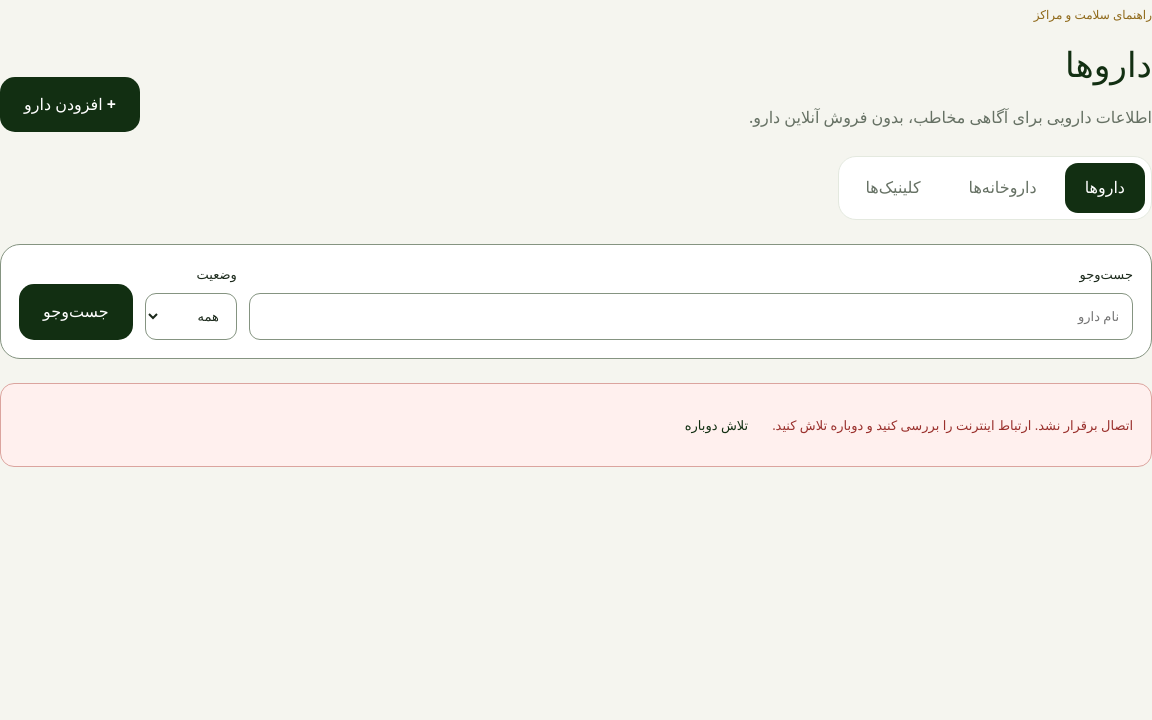
Test case: retries failed care reads and announces editor errors only once
Expected: the message "اتصال برقرار نشد. ارتباط اینترنت را بررسی کنید و دوباره تلاش کنید. تلاش دوباره" is shown, [0,383,1151,467]
Click the button "تلاش دوباره": (716, 425) [661,399,772,451]
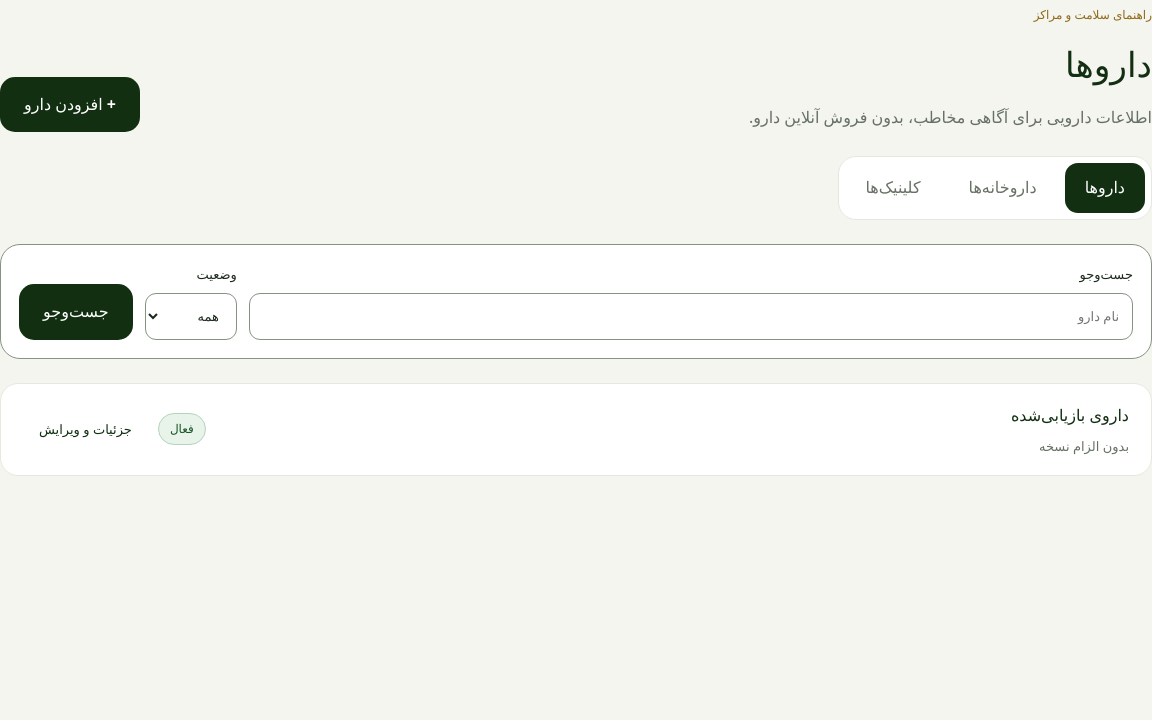
Now the text "داروی بازیابی‌شده" is shown, box [1011,402,1129,429]
Now the message "اتصال برقرار نشد. ارتباط اینترنت را بررسی کنید و دوباره تلاش کنید. تلاش دوباره" is gone
Click the button "+ افزودن دارو": (70, 105) [0,77,140,132]
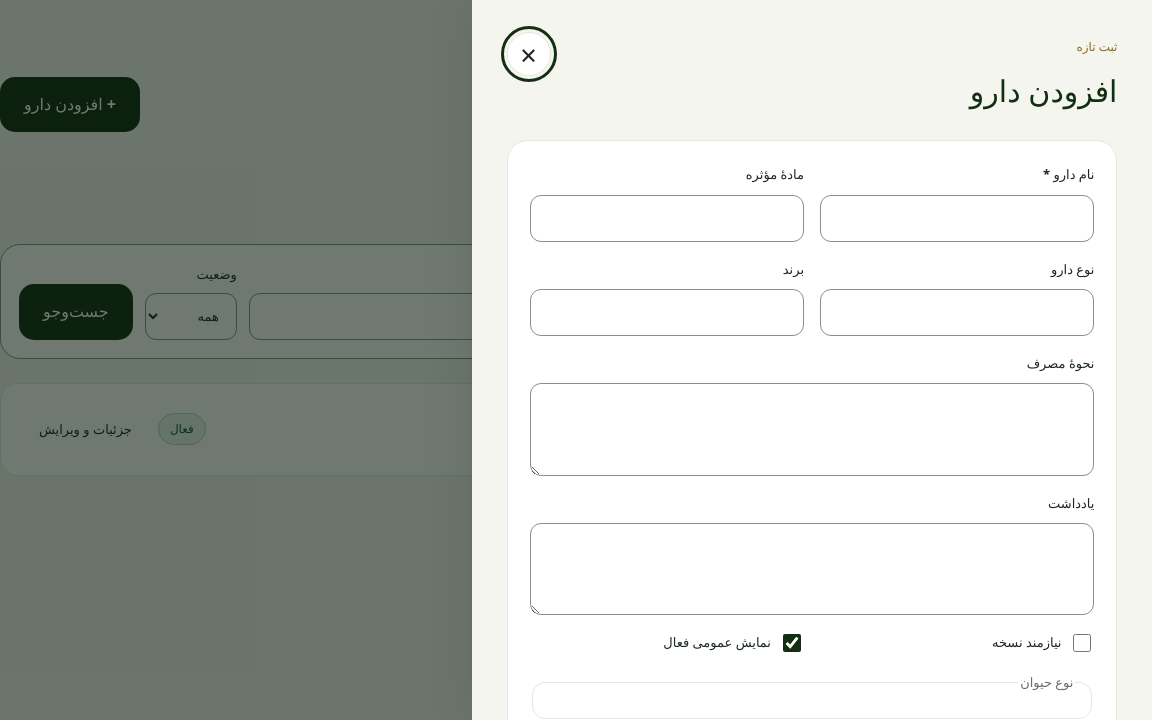
In the field labelled "نام دارو *": (957, 218) [820,195,1094,242], type "داروی جدید"
(page scrolled)
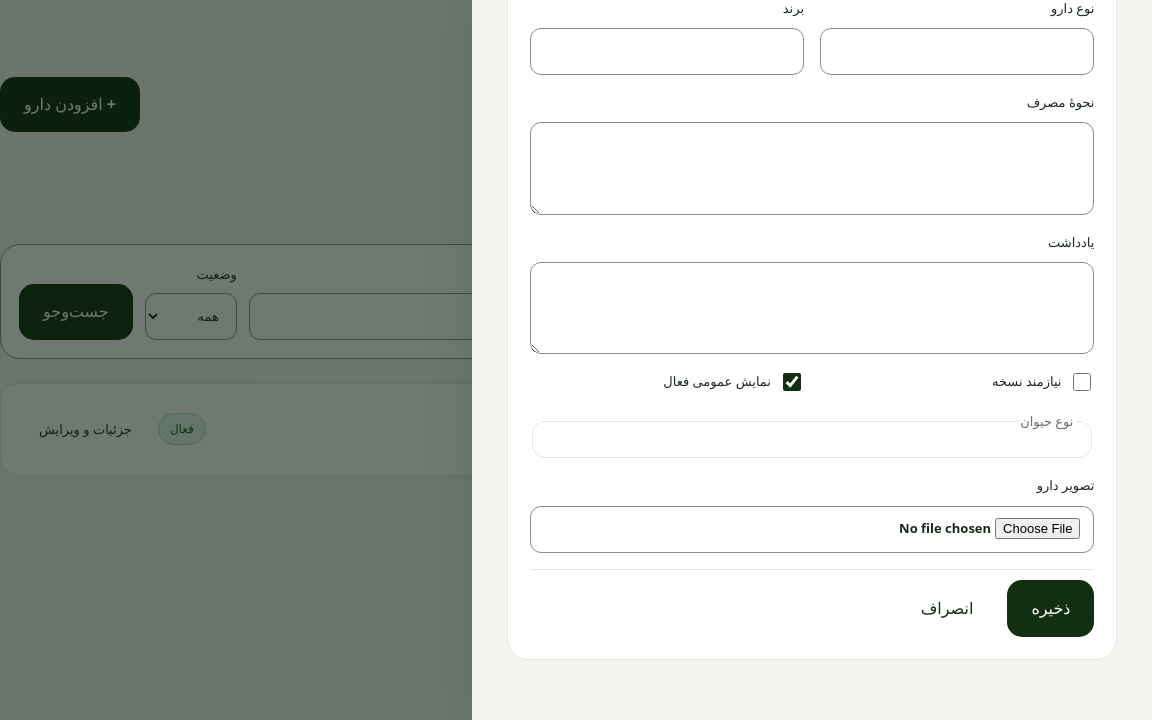
Click the button "ذخیره": (1051, 608) [1007,580,1094,637]
(page scrolled)
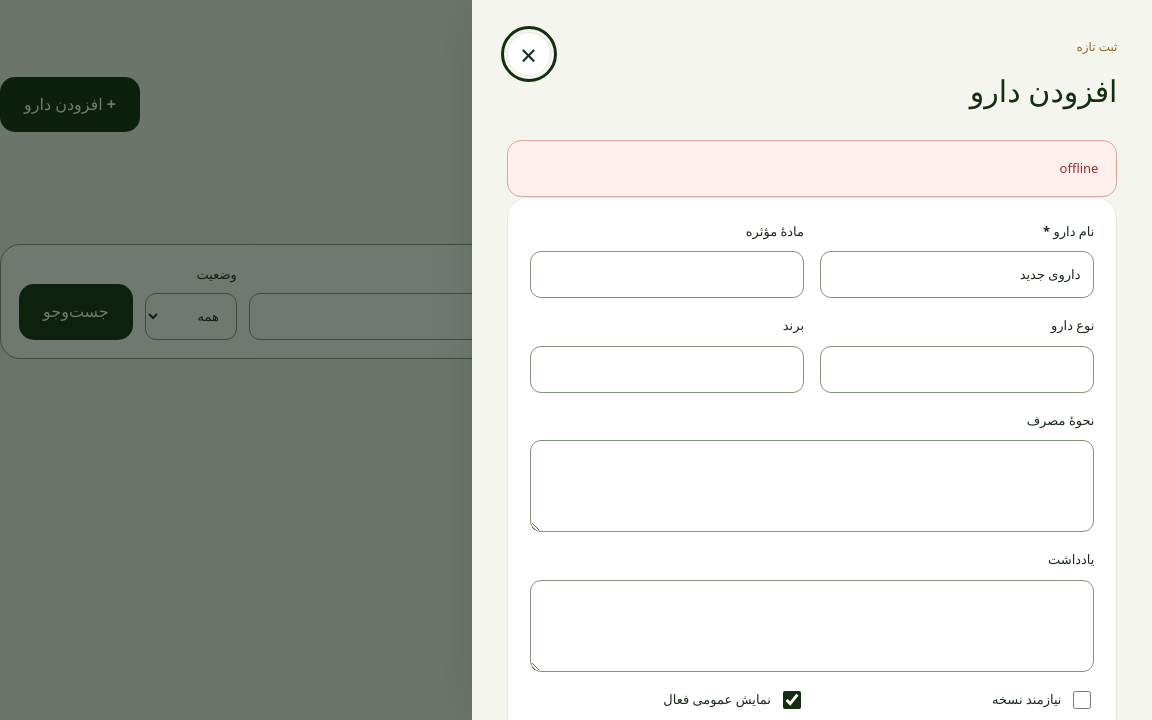
Now the number of messages is 1, box [506,140,1117,197]
